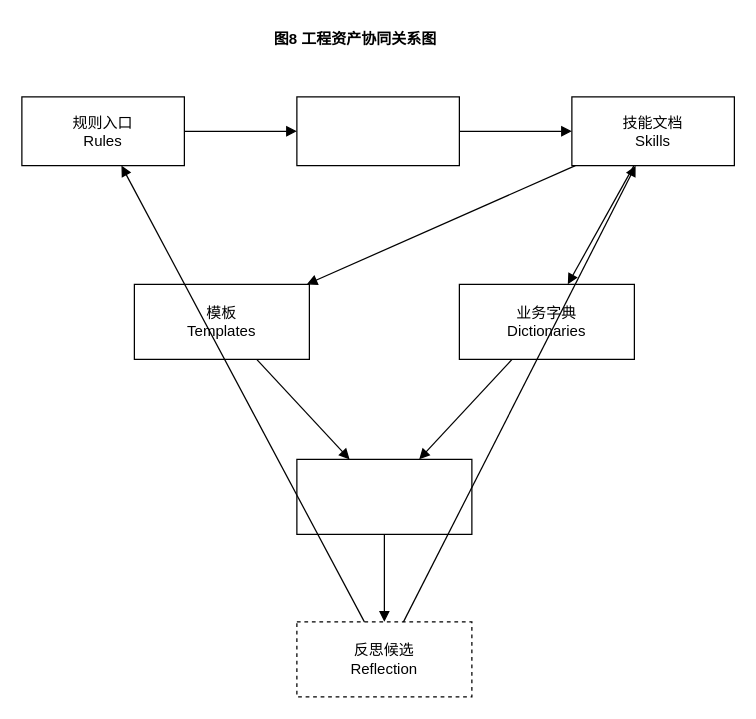
The diagram is 756 pixels wide and 719 high, and some of its shapes have lost their labels. The centre of each missing label's shape, as x and y in pixels:
工作流目录 Workflows: point 377,131
执行记录 Records: point 384,496
